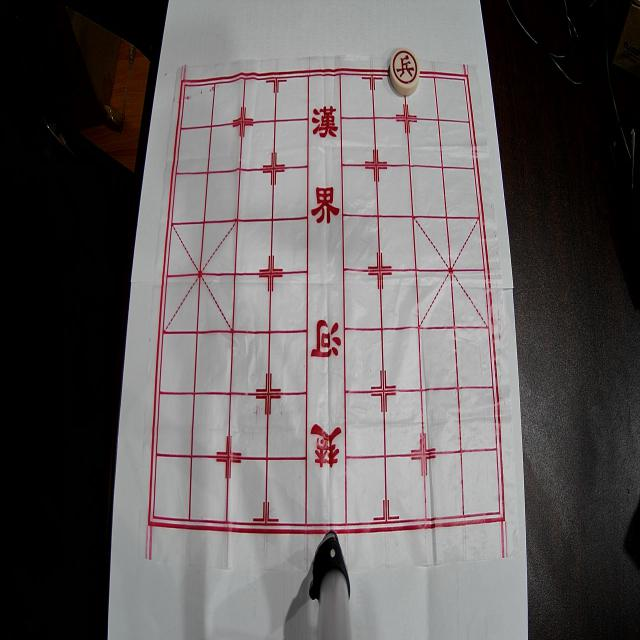red-soldier: (390, 48, 420, 95)
